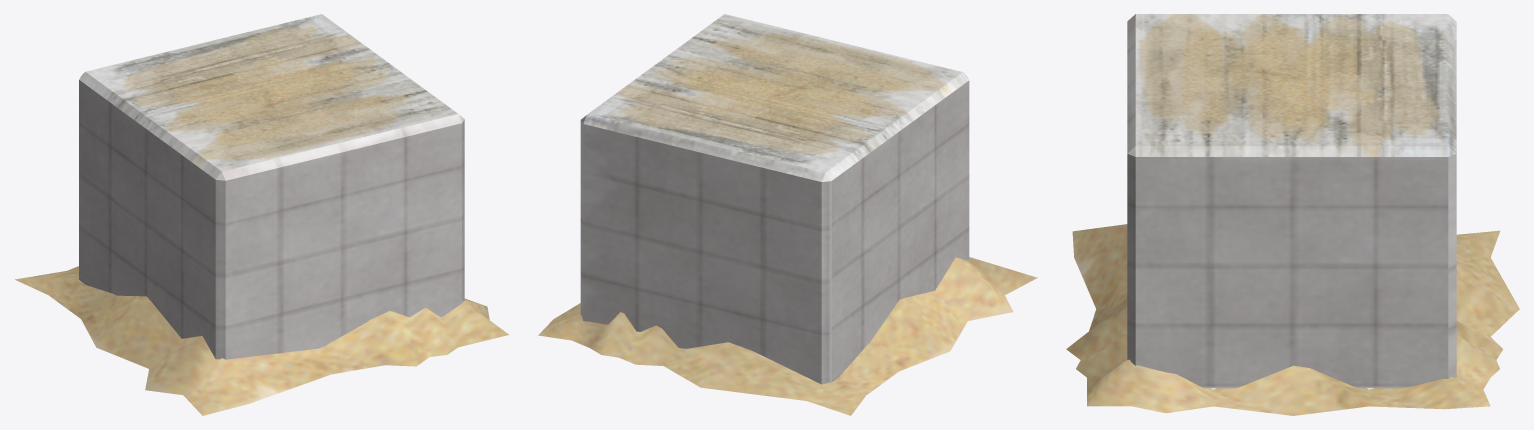
Rendered from TDHus2.fbx.
3 views of the same model, side by side, from view 1: azimuth 30°, elevation 25°; view 2: azimuth 150°, elevation 25°; view 3: azimuth 270°, elevation 25° (orthographic). The views are drawn at different scales.
Visible parts, largest first — view 1: TDHus_II; view 2: TDHus_II; view 3: TDHus_II.
Part boxes in pixels (box(x1,y1,x2,y2)): TDHus_II: box(15, 14, 509, 415); TDHus_II: box(538, 14, 1037, 415); TDHus_II: box(1066, 14, 1519, 415).
Size of the model in its own units: 34.19 by 20.03 by 33.82.
